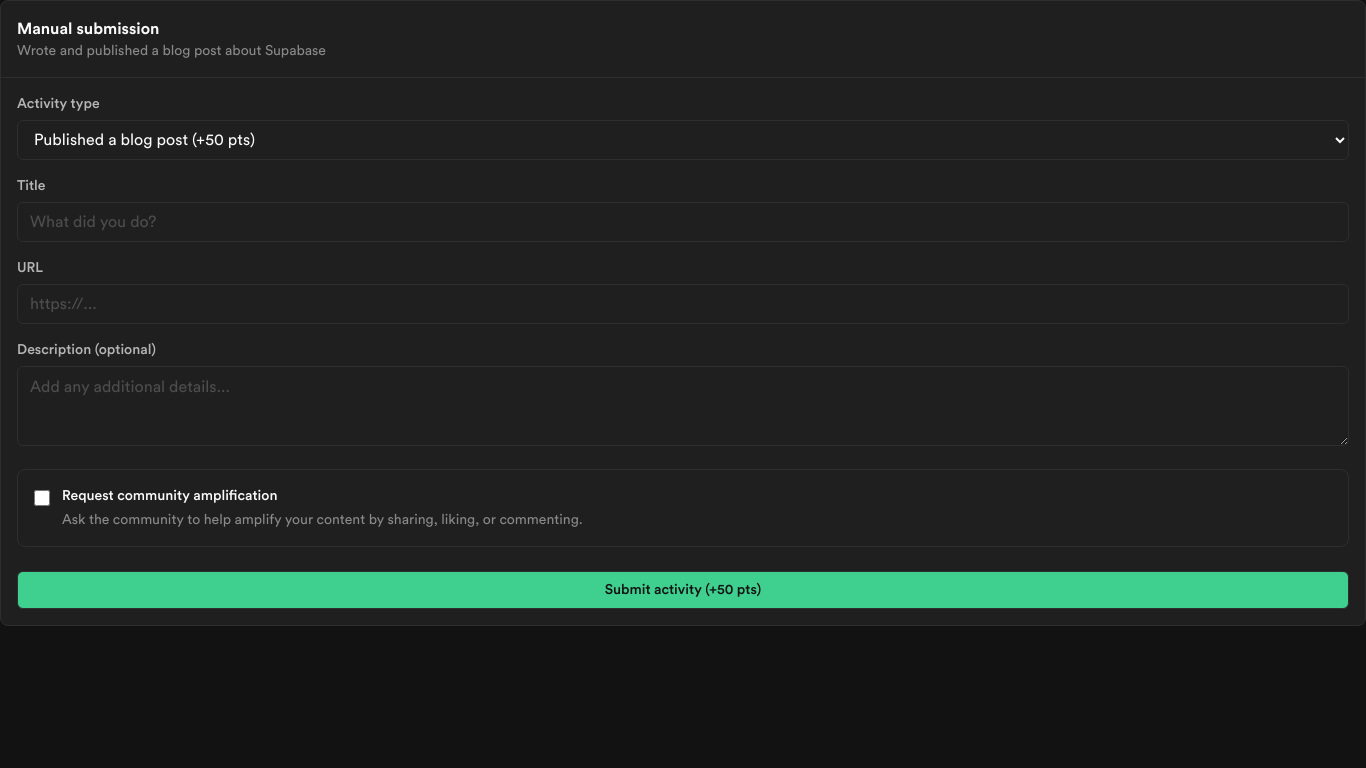
Test case: ActivityForm component › when submitting the form › should show error when user is not logged in
Type "Test Blog Post" into the field labelled "Title".
click(683, 222); type("Test Blog Post")  # box top-left (17, 202), bottom-right (1349, 242)
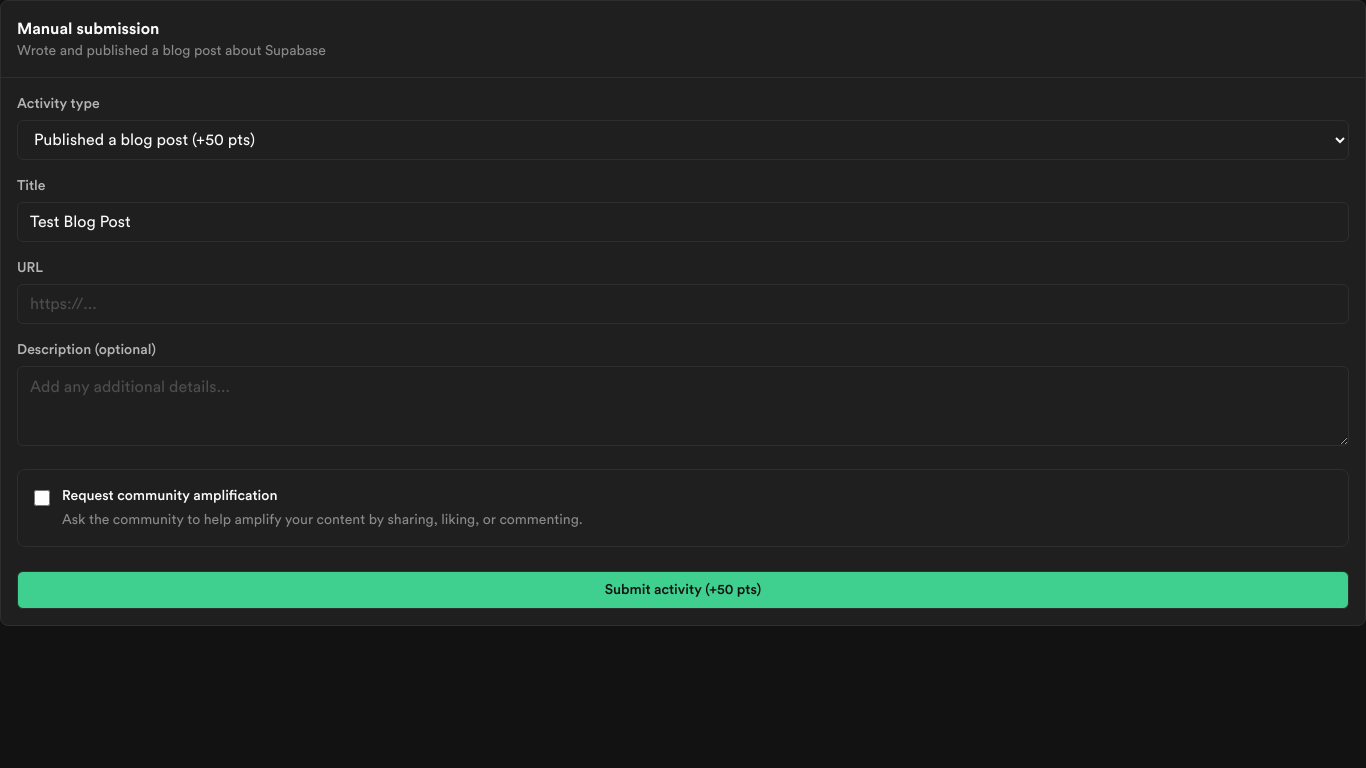
Type "https://example.com/blog" into the field labelled "URL".
click(683, 304); type("https://example.com/blog")  # box top-left (17, 284), bottom-right (1349, 324)
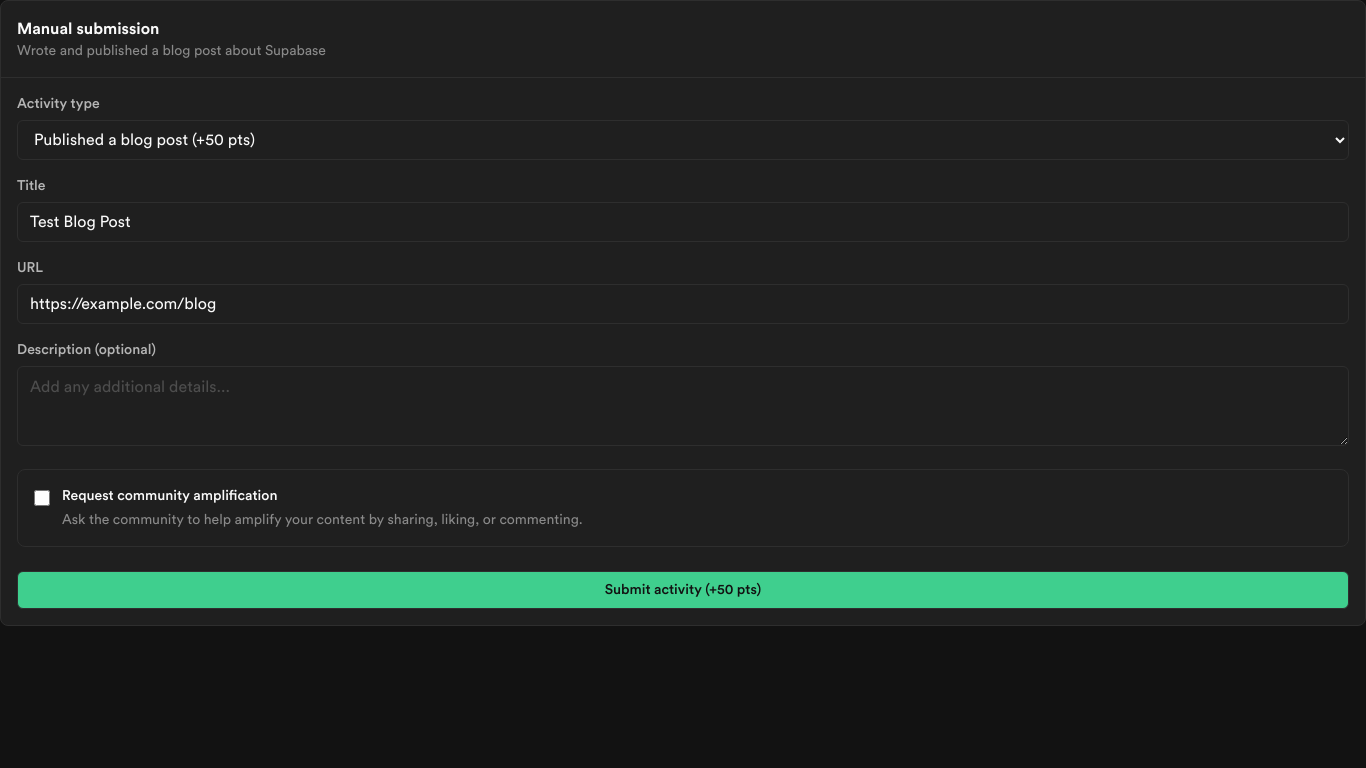
Click the button "Submit activity (+50 pts)".
click(683, 590)  # box top-left (17, 571), bottom-right (1349, 609)
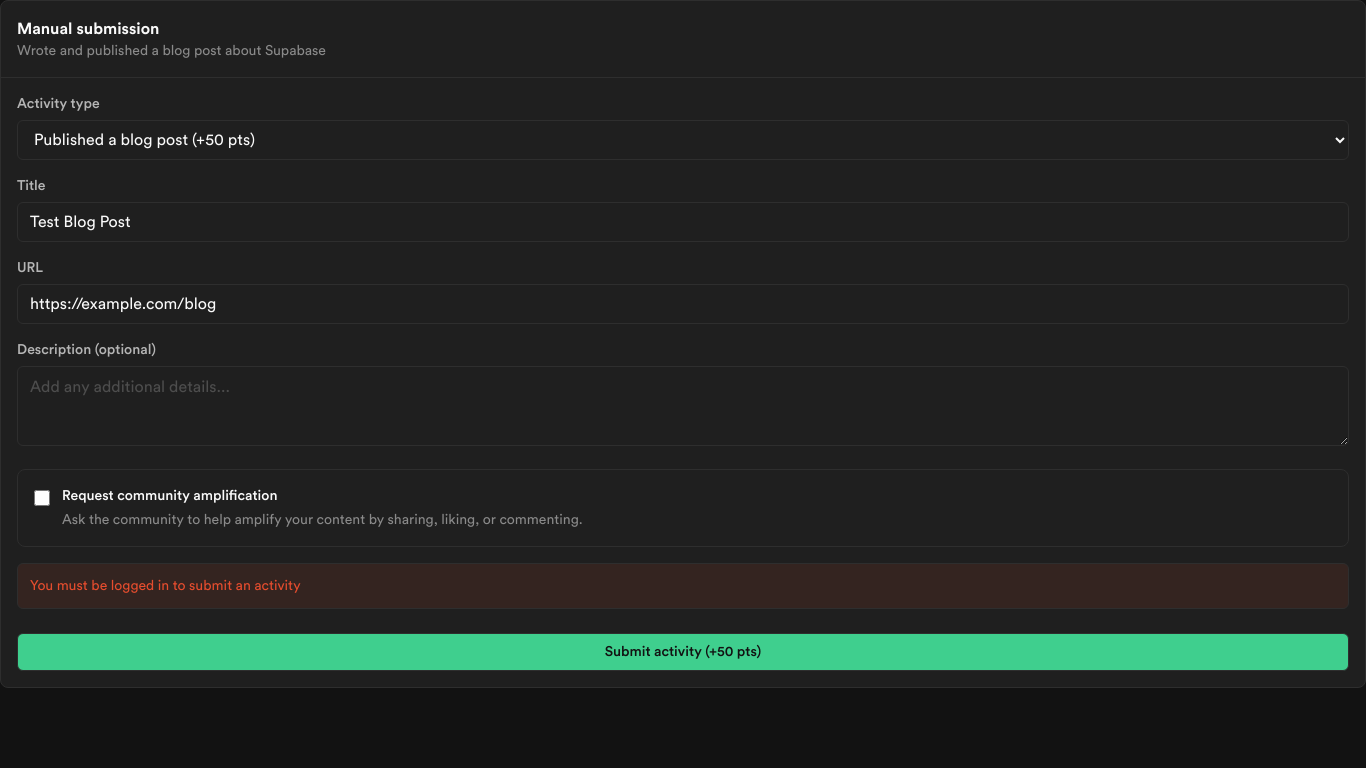
Now the text "You must be logged in to submit an activity" is shown, box top-left (30, 579), bottom-right (300, 593)
